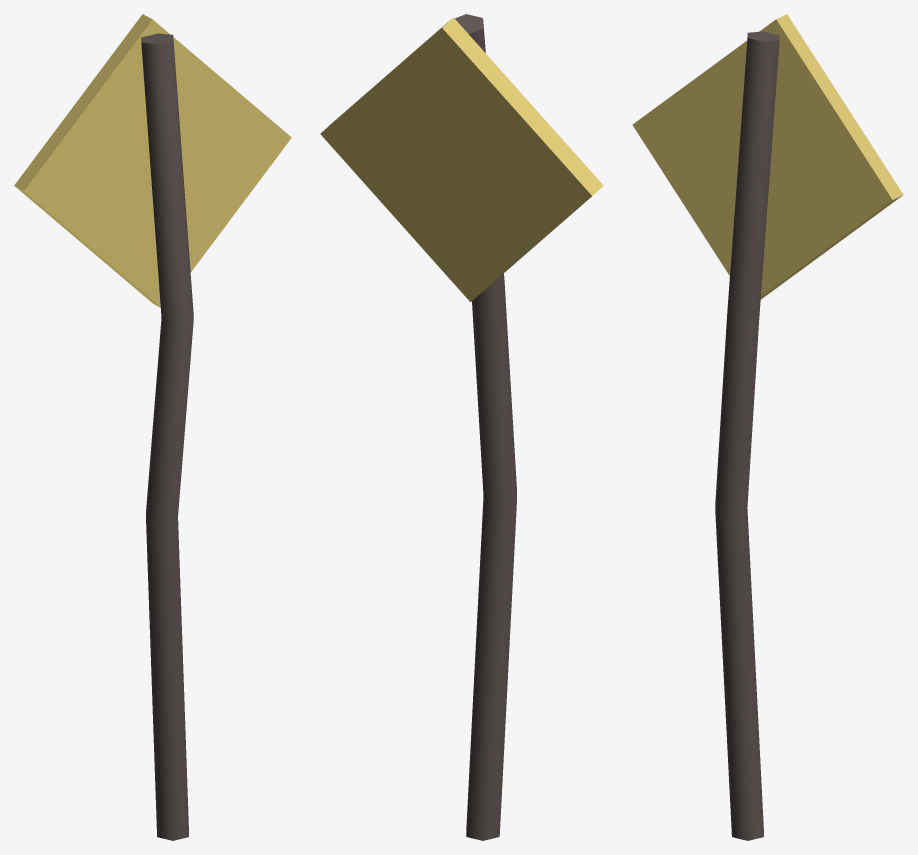
Rendered from SignStreet01.fbx.
The picture shows the model from 3 angles, left to right: view 1: azimuth 30°, elevation 25°; view 2: azimuth 150°, elevation 25°; view 3: azimuth 330°, elevation 25°; orthographic projection. The views are drawn at different scales.
Visible parts, largest first — view 1: SignStreet01; view 2: SignStreet01; view 3: SignStreet01.
Boxes of the visible parts, x1,y1,x2,y2 form: SignStreet01: (14,14,291,840); SignStreet01: (320,14,603,840); SignStreet01: (632,14,903,840).
Size of the model in its own units: 185 by 531 by 57.41.
